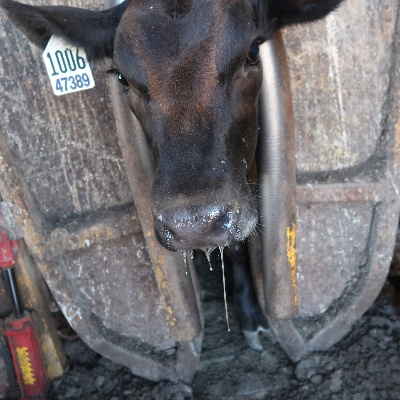fidget_spinner: (153, 207, 241, 252)
